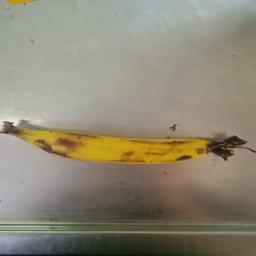Banana Rotten: (15, 113, 252, 186)
